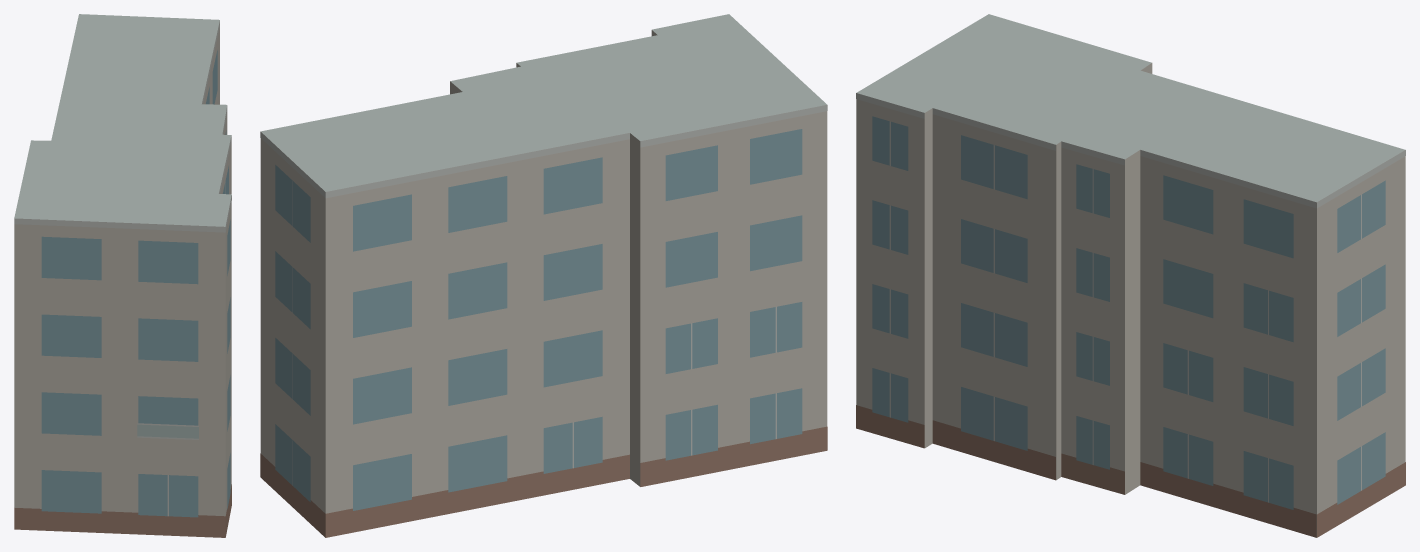
Rendered from survey-upis-32527407.glb.
3 views of the same model, side by side, from view 1: azimuth 30°, elevation 25°; view 2: azimuth 150°, elevation 25°; view 3: azimuth 270°, elevation 25° (orthographic). The views are drawn at different scales.
Visible parts, largest first — view 1: survey-upis-32527407.tmp; view 2: survey-upis-32527407.tmp; view 3: survey-upis-32527407.tmp.
Boxes of the visible parts, x1,y1,x2,y2 form: survey-upis-32527407.tmp: (14, 14, 231, 537); survey-upis-32527407.tmp: (260, 14, 827, 537); survey-upis-32527407.tmp: (856, 14, 1405, 537).
Size of the model in its own units: 16.02 by 13.3 by 19.75.
